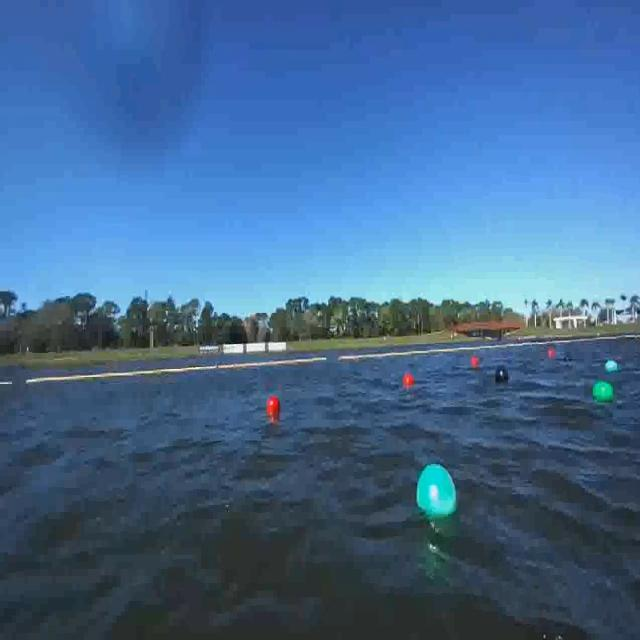black-buoy: (495, 364, 509, 384)
green-buoy: (415, 464, 457, 521), (590, 380, 612, 400), (604, 360, 617, 372)
red-buoy: (268, 396, 281, 416), (404, 374, 416, 390), (472, 356, 480, 369), (470, 356, 478, 368)
